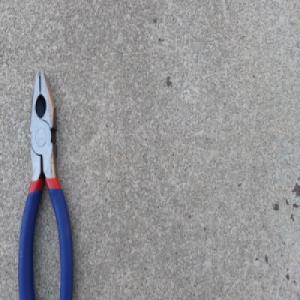Pliers: (17, 68, 76, 300)
